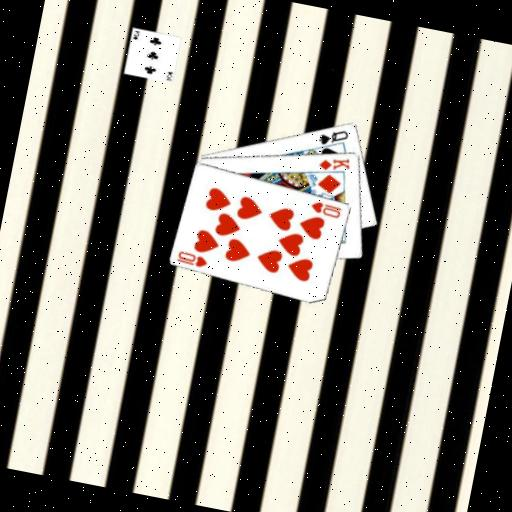10H: (307, 197, 345, 220), (174, 247, 212, 270)
KD: (315, 149, 353, 176)
QS: (315, 123, 351, 151)
